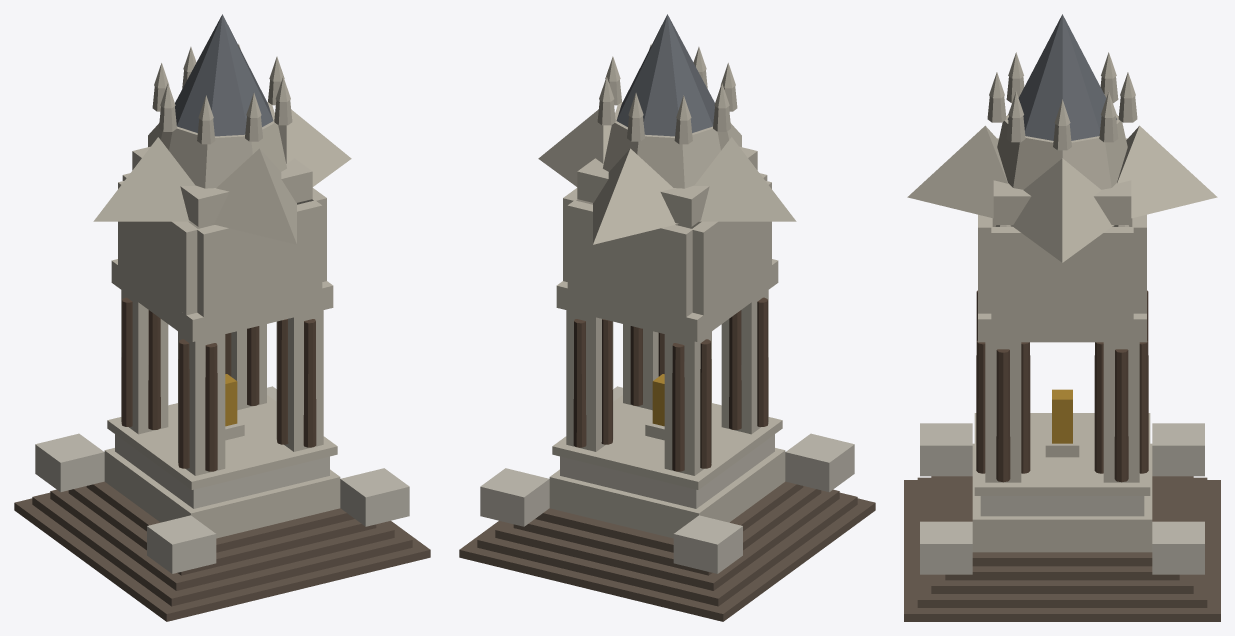
The model's file is albert_memorial.glb.
3 views of the same model, side by side, from view 1: azimuth 30°, elevation 25°; view 2: azimuth 150°, elevation 25°; view 3: azimuth 270°, elevation 25° (orthographic). The views are drawn at different scales.
Parts seen in each view (by area): view 1: albert_memorial; view 2: albert_memorial; view 3: albert_memorial.
Boxes of the visible parts, <box> form: albert_memorial: <box>14,14,430,621</box>; albert_memorial: <box>459,14,875,621</box>; albert_memorial: <box>904,14,1220,621</box>.
Size of the model in its own units: 30 by 56.5 by 30.
